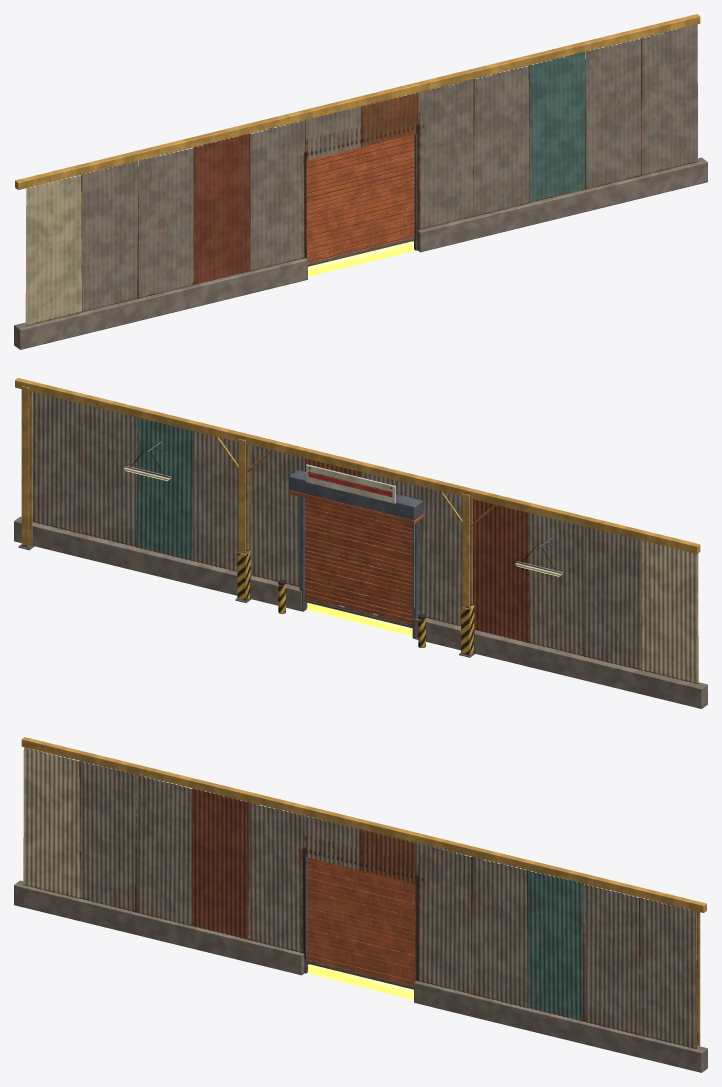
Rendered from ws_wall_front.glb.
The picture shows the model from 3 angles, top to bottom: view 1: azimuth 30°, elevation 25°; view 2: azimuth 150°, elevation 25°; view 3: azimuth 330°, elevation 25°; orthographic projection.
Parts seen in each view (by area): view 1: wall, door, glow_door_gap; view 2: wall, door, glow_door_gap; view 3: wall, door, glow_door_gap.
Part boxes in pixels (x1,y1,x2,y2): wall: (14,14,707,349); door: (306,134,414,266); glow_door_gap: (308,241,413,276); wall: (14,378,707,708); door: (304,498,412,628); glow_door_gap: (307,602,412,635); wall: (14,737,707,1072); door: (307,858,415,989); glow_door_gap: (308,964,413,999).
Size of the model in its own units: 24.6 by 5.58 by 1.4.
2 materials, 1 textured.
